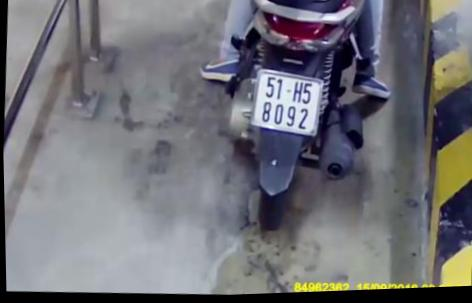LP: (247, 67, 325, 141)
